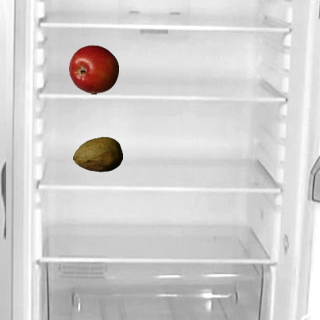Apple Braeburn: (68, 44, 118, 94)
Papaya: (72, 129, 122, 179)
